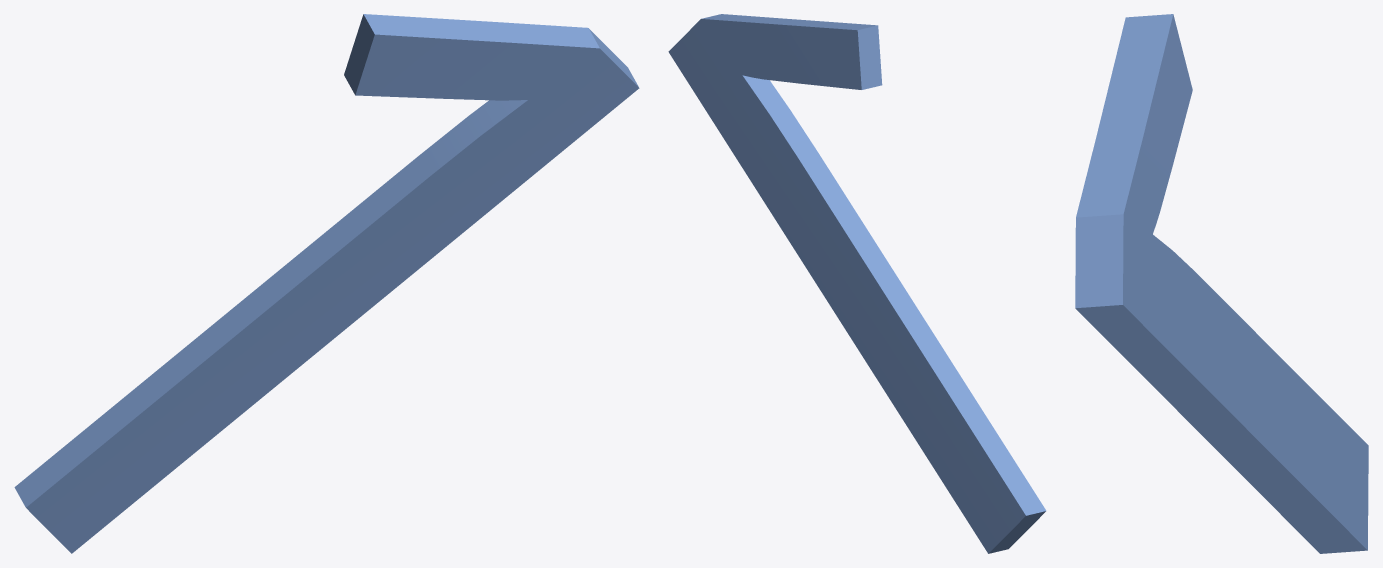
Rendered from Number_1.gltf.
The picture shows the model from 3 angles, left to right: view 1: azimuth 30°, elevation 25°; view 2: azimuth 150°, elevation 25°; view 3: azimuth 270°, elevation 25°; orthographic projection. The views are drawn at different scales.
Parts seen in each view (by area): view 1: Sub_1_Cell_2_1_Number_1; view 2: Sub_1_Cell_2_1_Number_1; view 3: Sub_1_Cell_2_1_Number_1.
Boxes of the visible parts, <box> form: Sub_1_Cell_2_1_Number_1: <box>14,14,639,553</box>; Sub_1_Cell_2_1_Number_1: <box>668,14,1046,553</box>; Sub_1_Cell_2_1_Number_1: <box>1075,14,1368,553</box>.
Bounding box in the file's own units: 0.0207 × 0.0196 × 0.00754.
